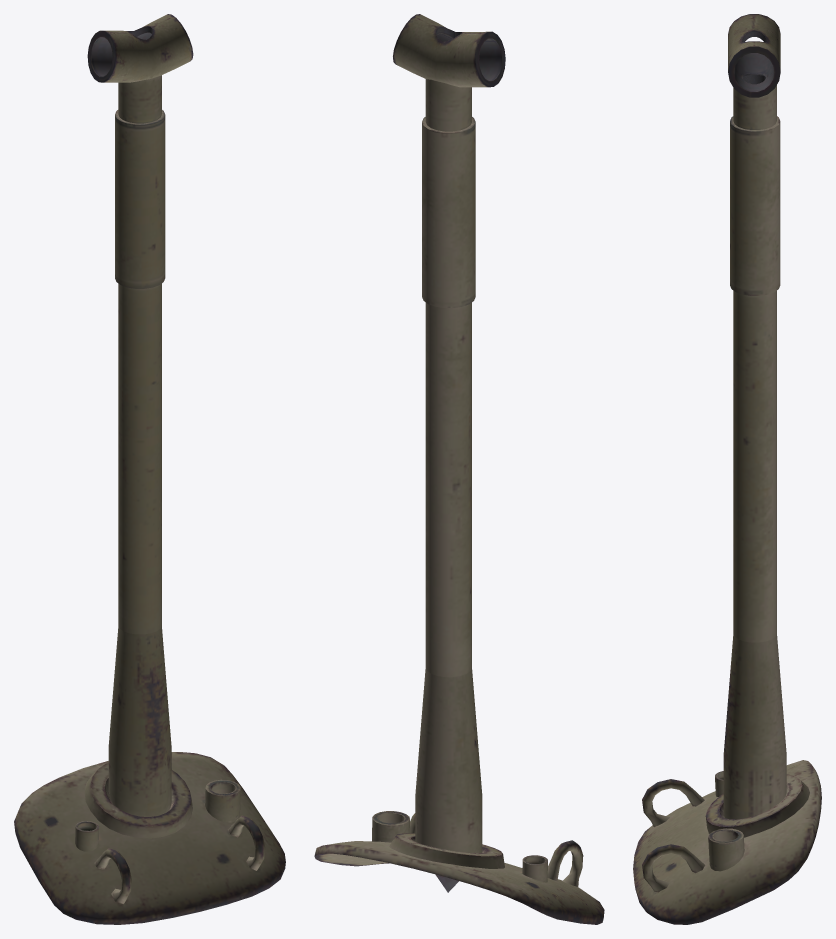
File: Gun_01.glb
3 views of the same model, side by side, from view 1: azimuth 30°, elevation 25°; view 2: azimuth 150°, elevation 25°; view 3: azimuth 270°, elevation 25° (orthographic). The views are drawn at different scales.
Parts seen in each view (by area): view 1: set_0_group_0; view 2: set_0_group_0; view 3: set_0_group_0.
Part boxes in pixels (<box>): set_0_group_0: <box>14,14,285,924</box>; set_0_group_0: <box>314,14,604,924</box>; set_0_group_0: <box>633,14,821,924</box>.
Bounding box in the file's own units: 1.03 × 3.71 × 0.7508.
1 material, 1 textured.
